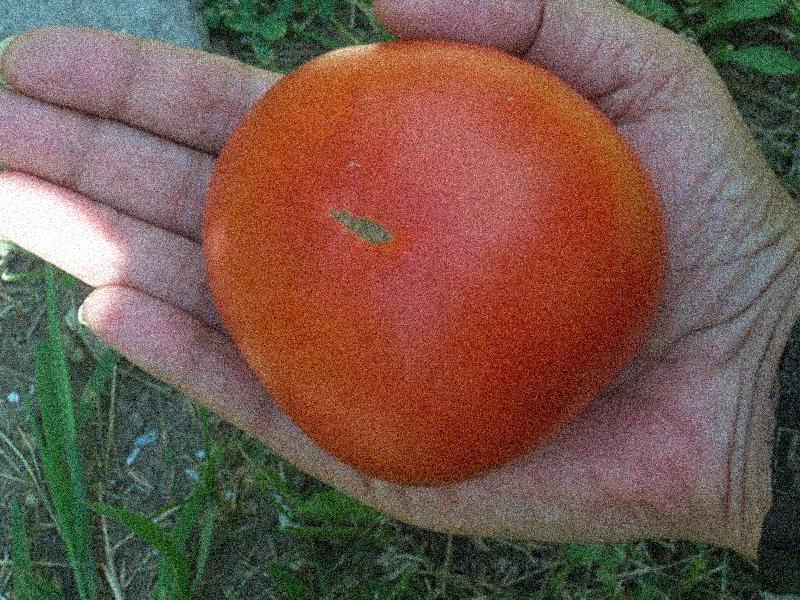Tomato: (204, 40, 661, 486)
